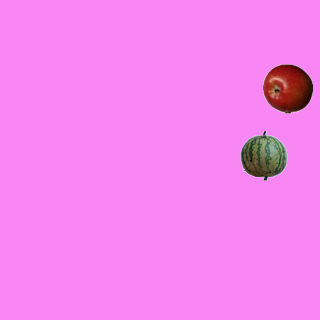Apple Braeburn: (262, 63, 312, 113)
Watermelon: (238, 130, 288, 180)
